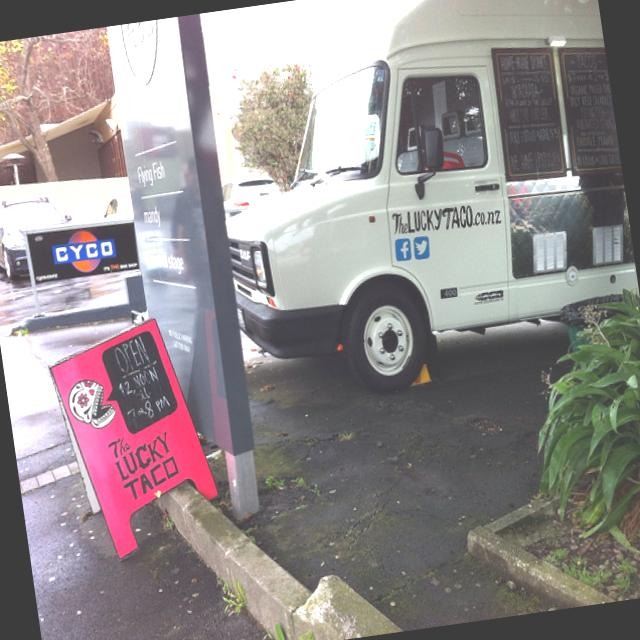Vehicle: (195, 0, 640, 420), (0, 191, 80, 284), (220, 168, 284, 220), (97, 193, 134, 222)
